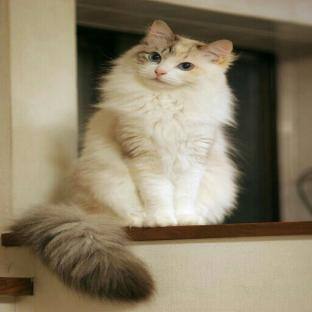Animal: (10, 20, 238, 302)
